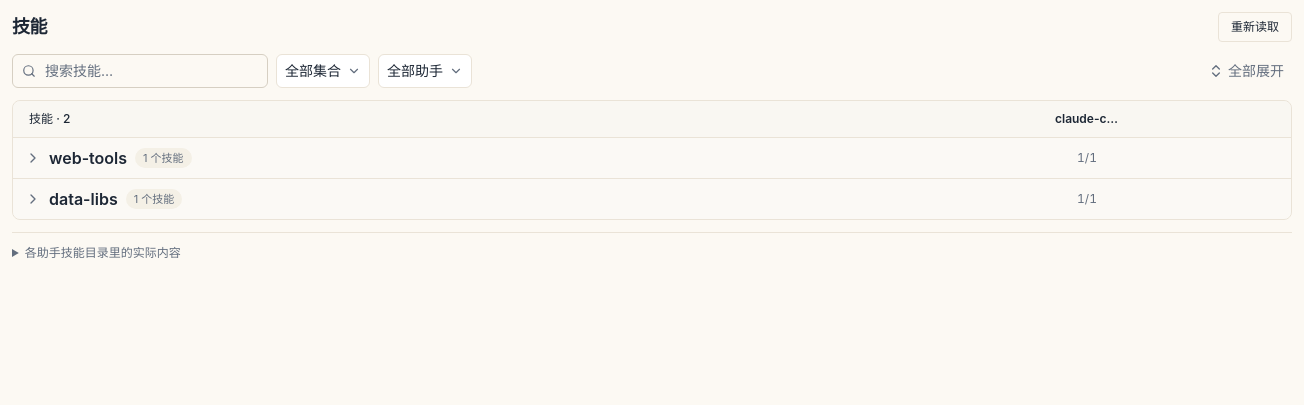
页内搜索：技能页 › 全部技能：搜索与集合下拉筛选叠加（AND），无匹配时给出空态与清除入口
Click the button with test id "^collection-toggle-".
click(108, 158)  # box 25,146 -> 192,170
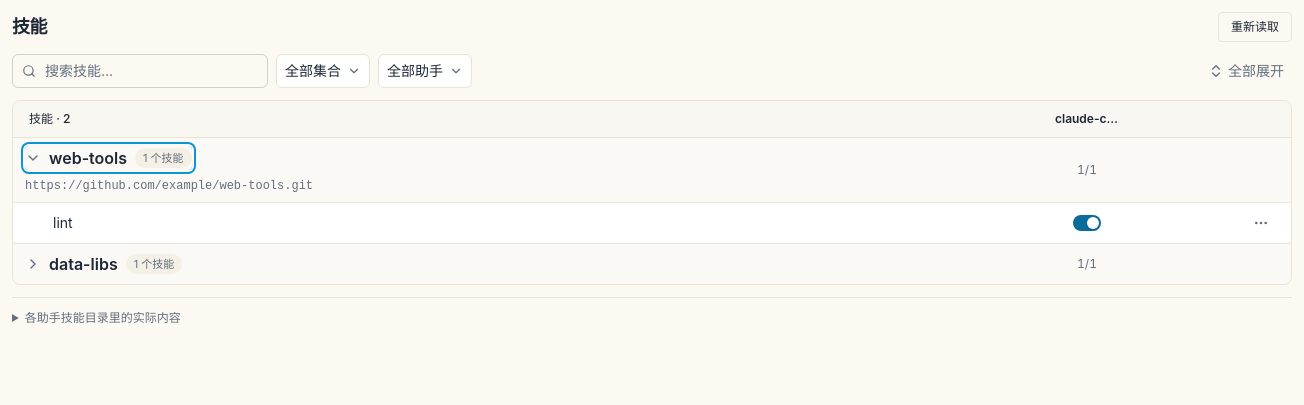
Click the button with test id "^collection-toggle-".
click(104, 264)  # box 25,252 -> 182,276
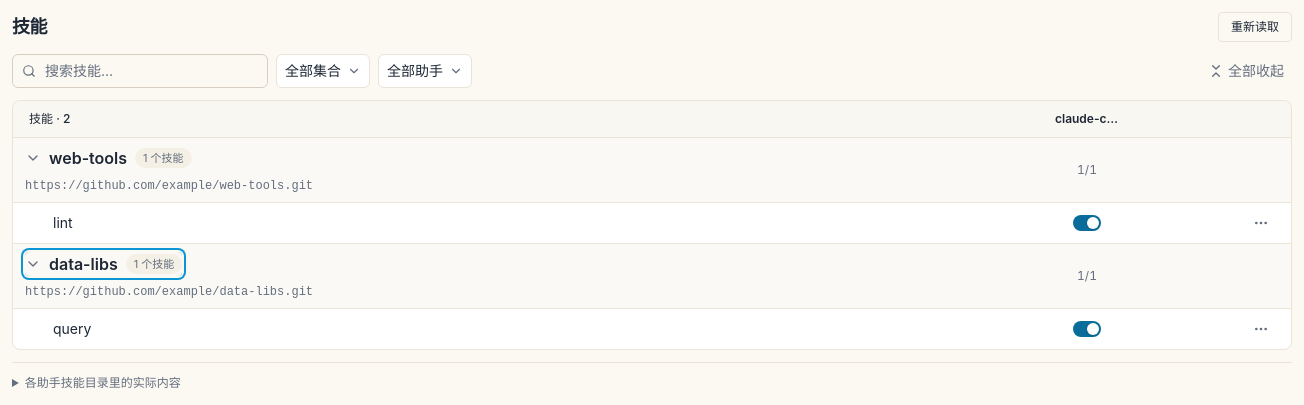
Type "lint" into the search field with test id "skills-search".
click(140, 71); type("lint")  # box 12,54 -> 268,88
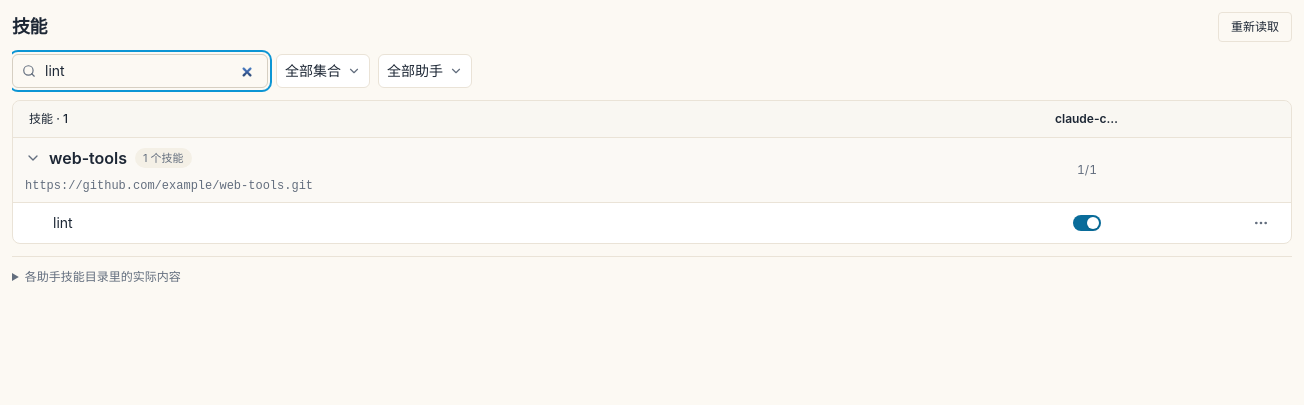
Now the text "lint" is shown, box 53,213 -> 73,233
Now the text "query" is gone
Click the dropdown with test id "filter-collection-select".
click(323, 71)  # box 276,54 -> 370,88
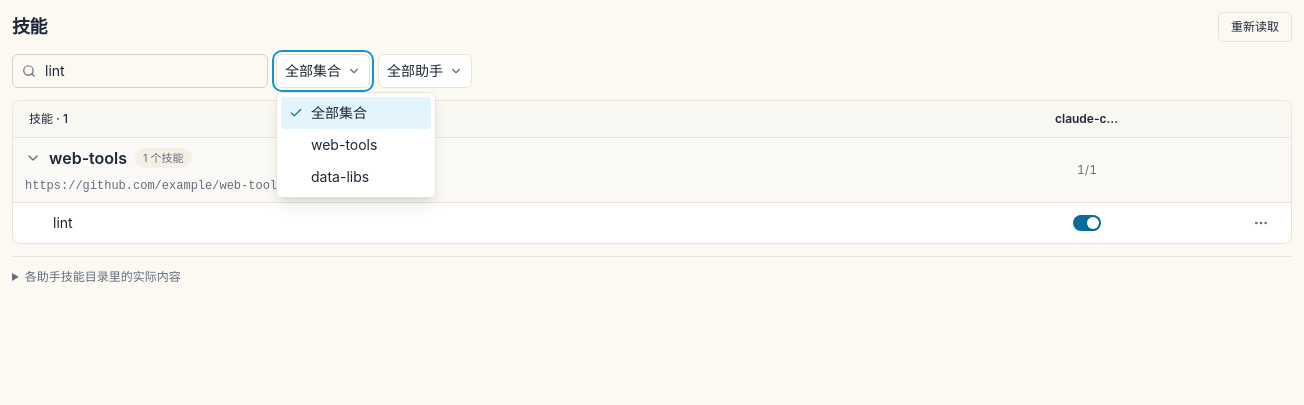
Click the option "data-libs".
click(340, 176)  # box 311,168 -> 369,185
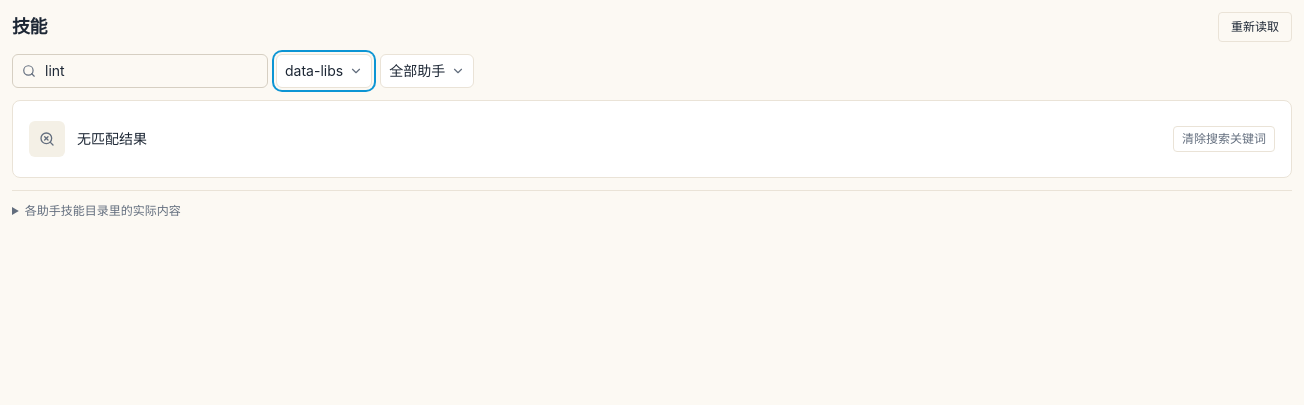
Now the element with test id "skills-empty-state" shows "无匹配结果", box 77,130 -> 147,147
Click the button "清除搜索关键词".
click(1224, 139)  # box 1173,126 -> 1275,152
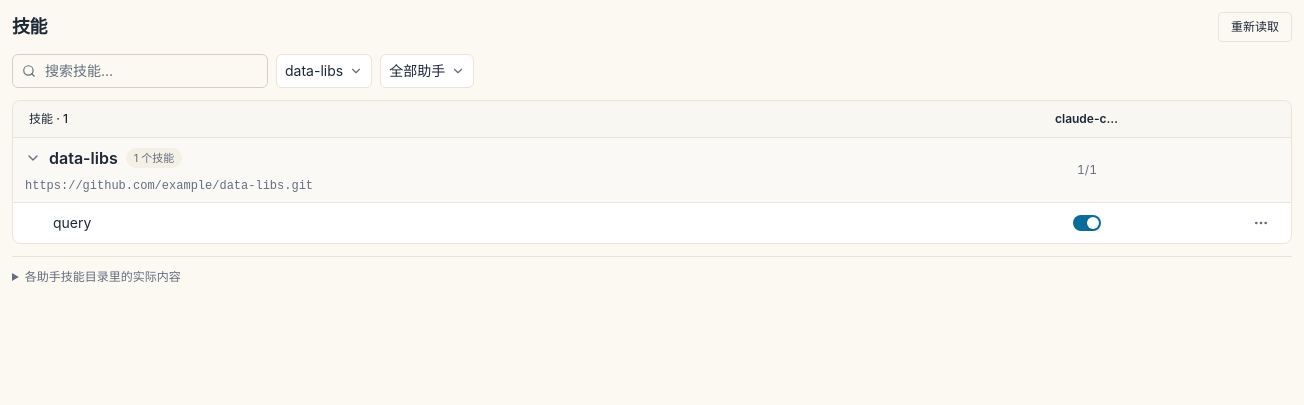
Now the text "query" is shown, box 53,213 -> 91,233
